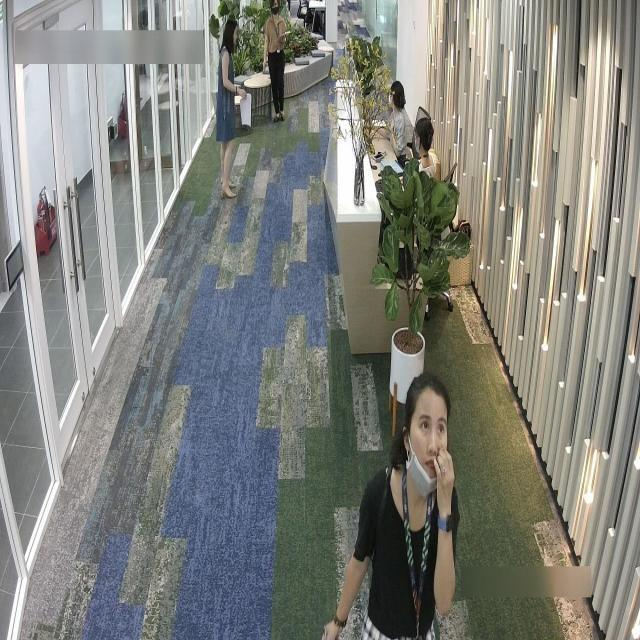no_gloves: (412, 374, 444, 410), (416, 118, 432, 144), (224, 20, 236, 50), (392, 82, 404, 106)
no_hairnet: (417, 440, 447, 472)
